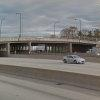Bridge: (2, 17, 95, 51)
